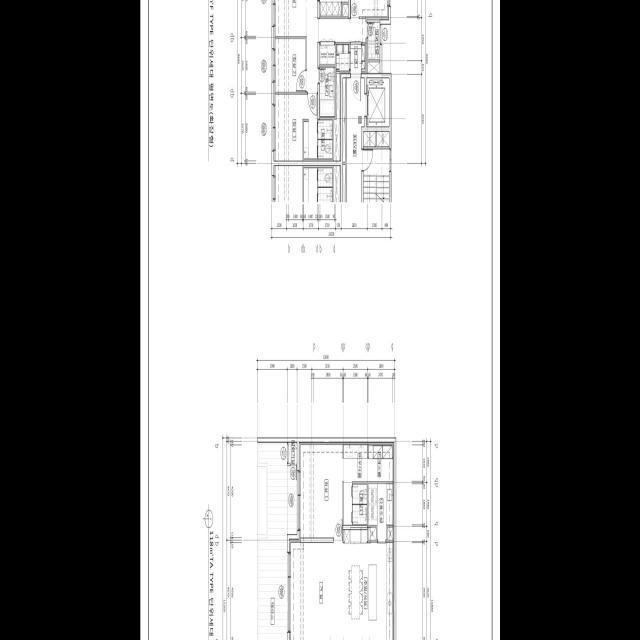background: (140, 0, 500, 640)
space_bedroom: (299, 445, 342, 538), (274, 95, 317, 161), (274, 39, 305, 92), (350, 0, 388, 20)
space_dressroom: (368, 445, 392, 482)
space_elevator: (366, 78, 389, 127)
space_elevator_hall: (346, 78, 364, 202)
space_front: (350, 44, 366, 73)
space_kitchen: (343, 530, 393, 640), (319, 0, 348, 16)
space_living_room: (274, 0, 367, 92), (289, 541, 343, 640)
space_other: (343, 445, 367, 525), (368, 484, 392, 539), (333, 74, 340, 161), (336, 44, 349, 73), (319, 45, 335, 65), (377, 132, 389, 147), (363, 132, 375, 147), (343, 78, 345, 162), (367, 62, 379, 73), (368, 528, 376, 540), (343, 165, 345, 202), (342, 4, 348, 16), (387, 527, 392, 540)
space_outdoor_room: (367, 22, 380, 60), (288, 443, 297, 463)
space_staircase: (363, 149, 389, 202)
space_toilet: (303, 120, 332, 159), (319, 67, 334, 117), (352, 484, 367, 525)
